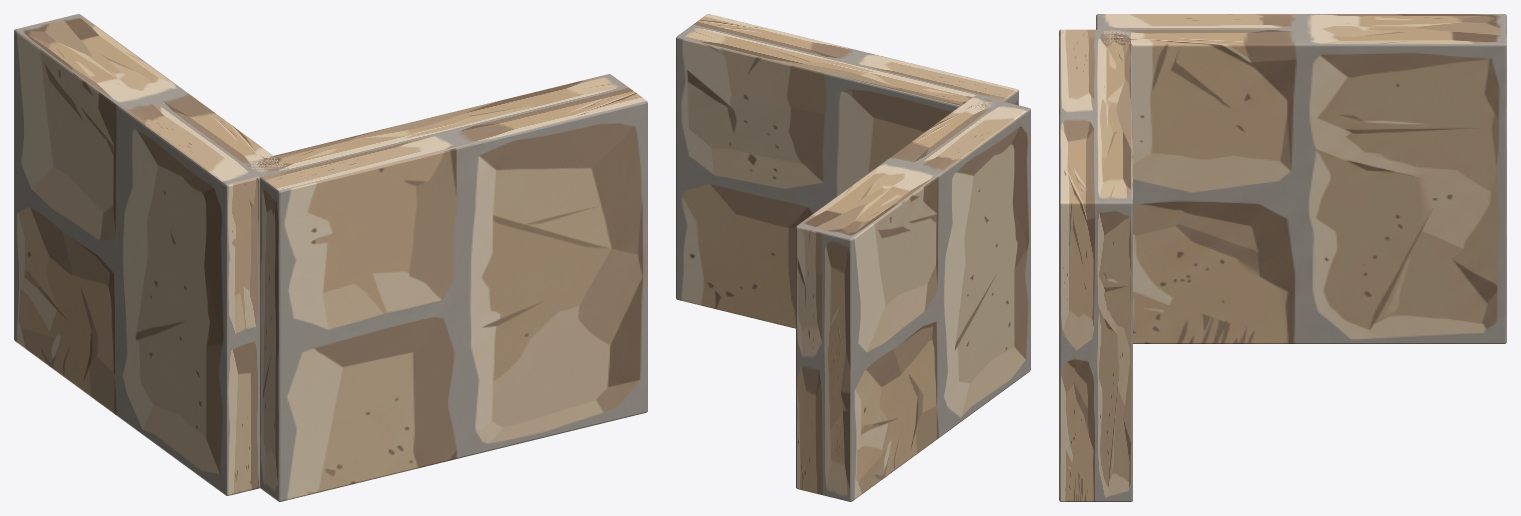
The model's file is ruin_wallrun_corner_inner_LOD2.glb.
The picture shows the model from 3 angles, left to right: view 1: azimuth 30°, elevation 25°; view 2: azimuth 150°, elevation 25°; view 3: azimuth 270°, elevation 25°; orthographic projection. The views are drawn at different scales.
Parts seen in each view (by area): view 1: LOD2_XWall, LOD2_YWall; view 2: LOD2_YWall, LOD2_XWall; view 3: LOD2_YWall, LOD2_XWall.
Boxes of the visible parts, <box> form: LOD2_XWall: <box>244,74,647,501</box>; LOD2_YWall: <box>14,14,288,495</box>; LOD2_YWall: <box>796,95,1030,501</box>; LOD2_XWall: <box>676,14,1018,328</box>; LOD2_YWall: <box>1096,14,1506,343</box>; LOD2_XWall: <box>1059,29,1132,501</box>.
Size of the model in its own units: 3.27 by 2.42 by 3.27.
1 material, 1 textured.
